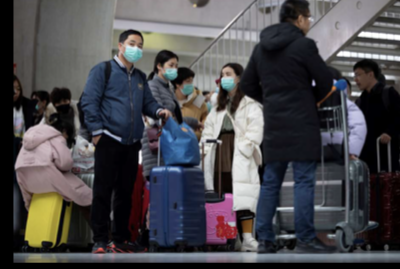with_mask: (122, 37, 144, 62), (219, 70, 237, 90), (162, 60, 179, 79), (54, 97, 71, 113), (180, 76, 194, 95)
without_mask: (353, 70, 368, 88), (304, 13, 313, 32), (14, 82, 21, 102)
